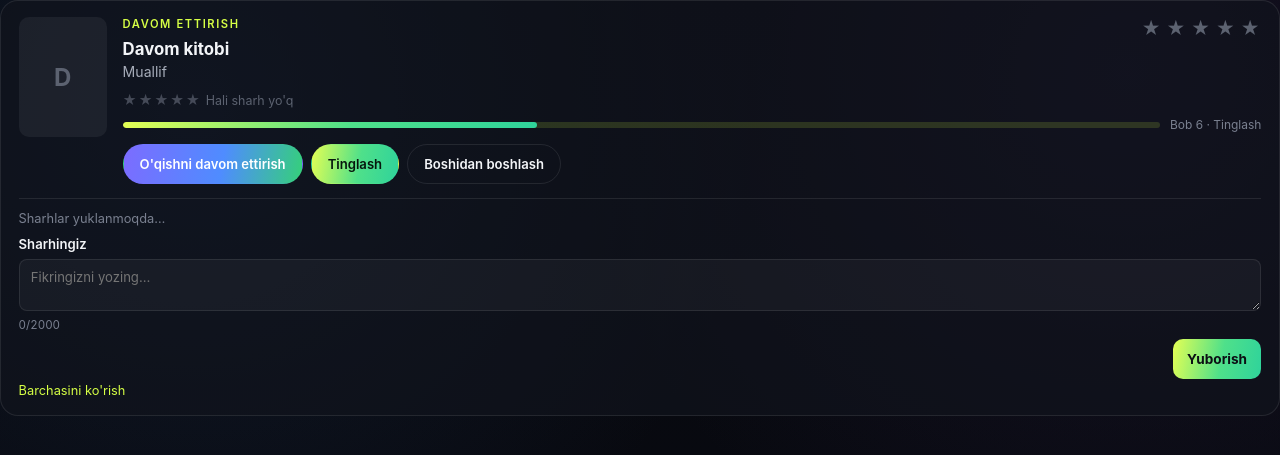
Scenario: ContinueReadingCard ratings › asks for confirmation before start-over reset
Click the button "Boshidan boshlash" at (484,164), box [407,144,561,184]
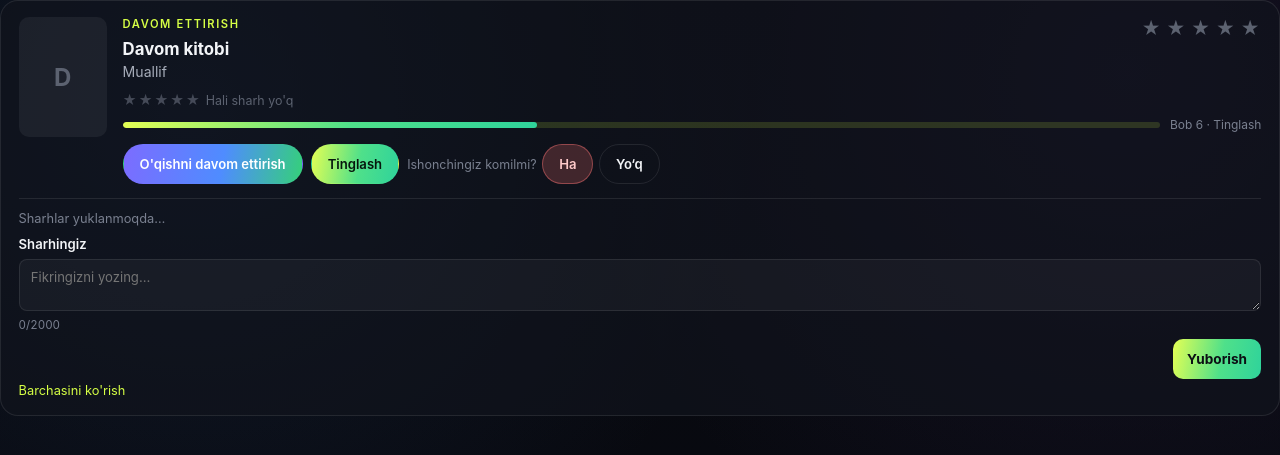
Now the text "Ishonchingiz komilmi?" is shown, box [407,157,536,172]
Click the button "Yo‘q" at (629,164), box [599,144,660,184]
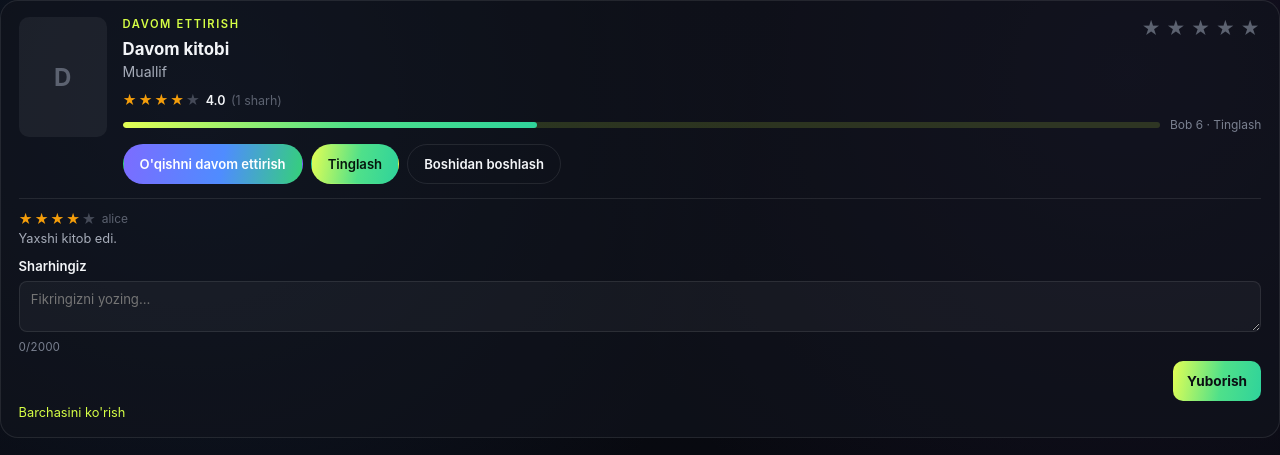
Now the text "Ishonchingiz komilmi" is gone
